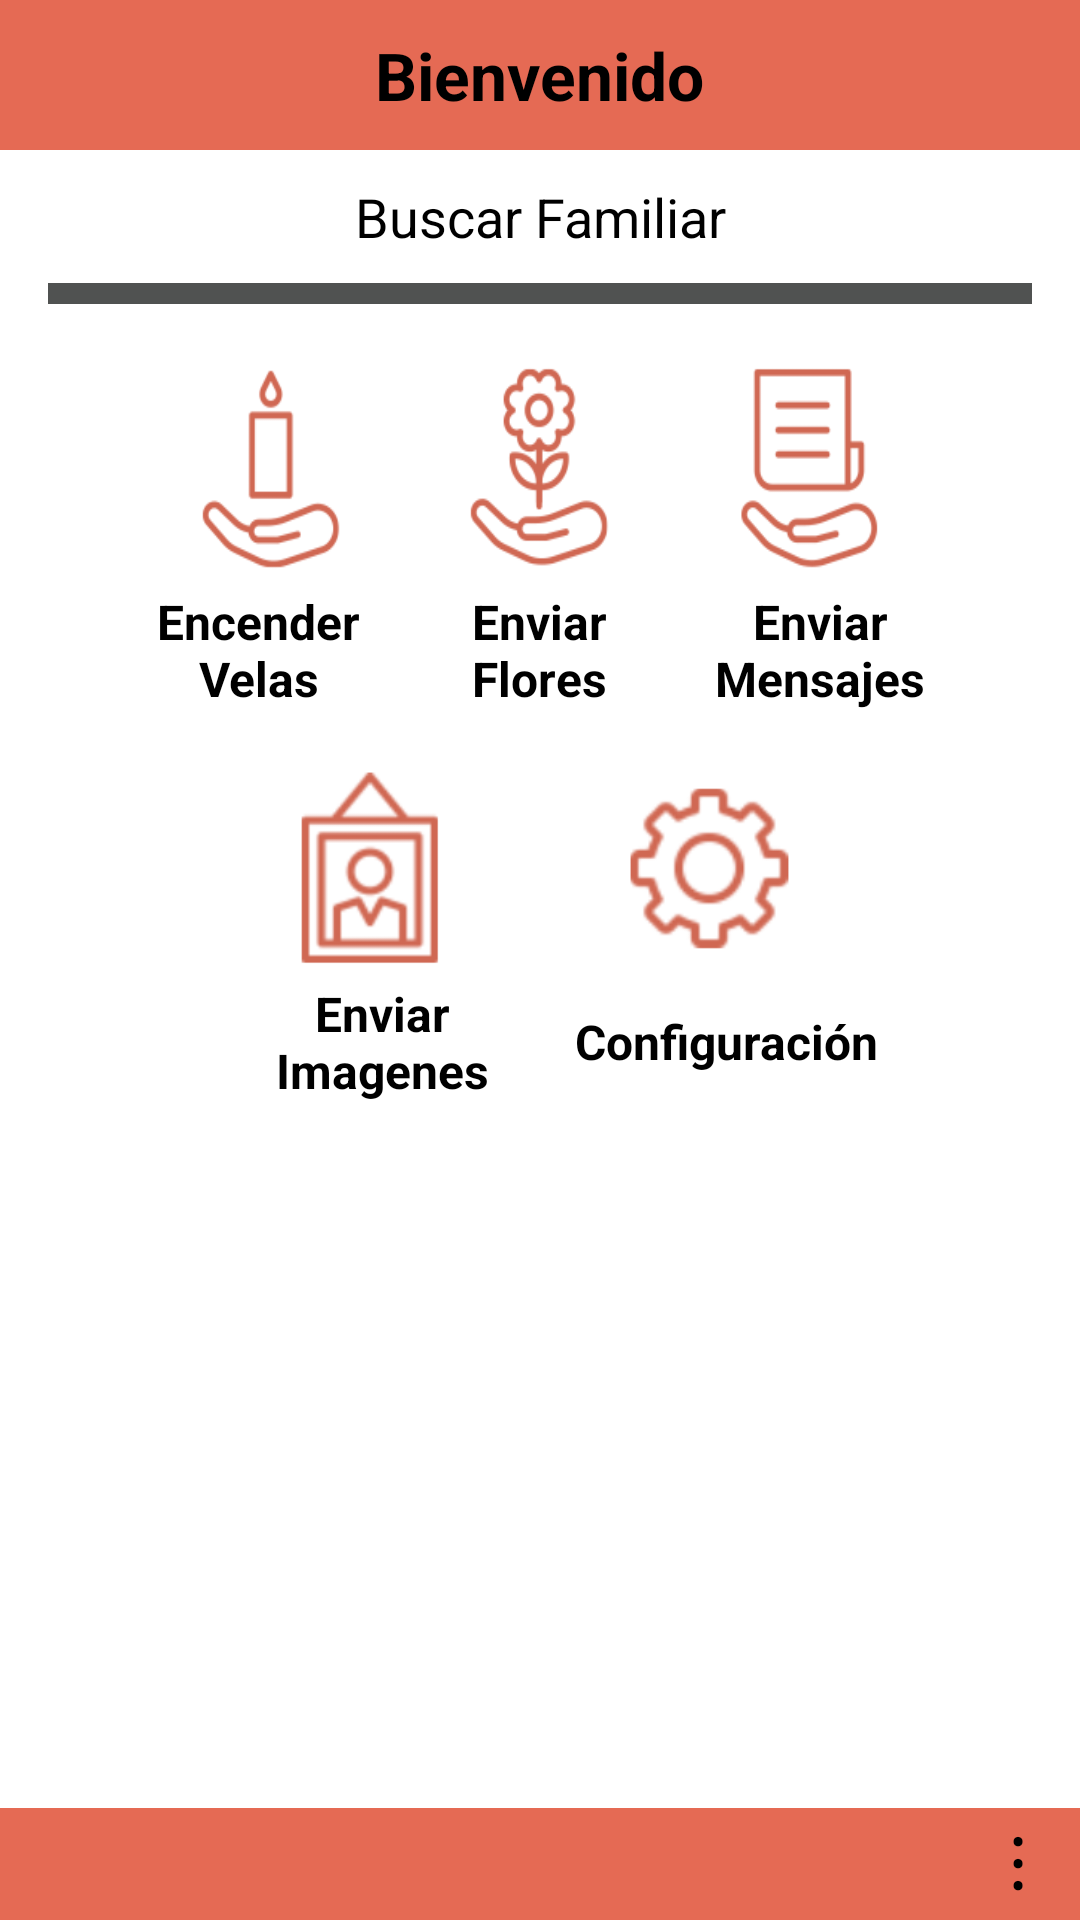

Point at icon controls on the screen. Image size 1080 × 1920, points as (x,y).
configuracion: (709,868)
floresrecibidas: (539,467)
fotos: (369,867)
mensajesrecibidos: (809,468)
velasencendias: (270,469)
